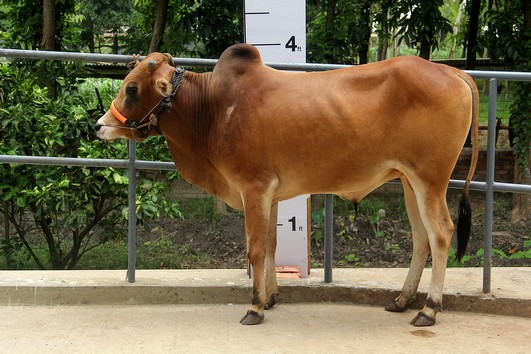cow: (89, 37, 482, 339)
